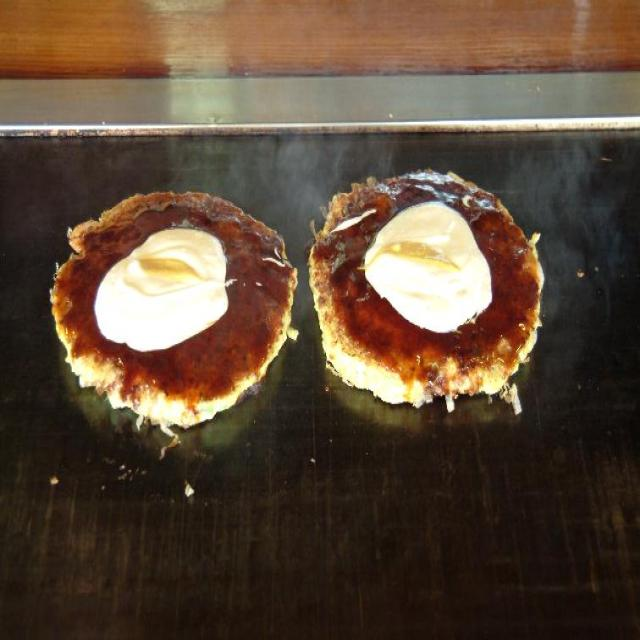蛋糕甜品: (45, 168, 301, 440)
